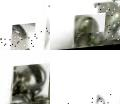ironball: (72, 15, 107, 49), (92, 1, 119, 43), (11, 65, 47, 88), (11, 23, 29, 49), (12, 90, 34, 103), (33, 94, 49, 103), (117, 39, 119, 46)
